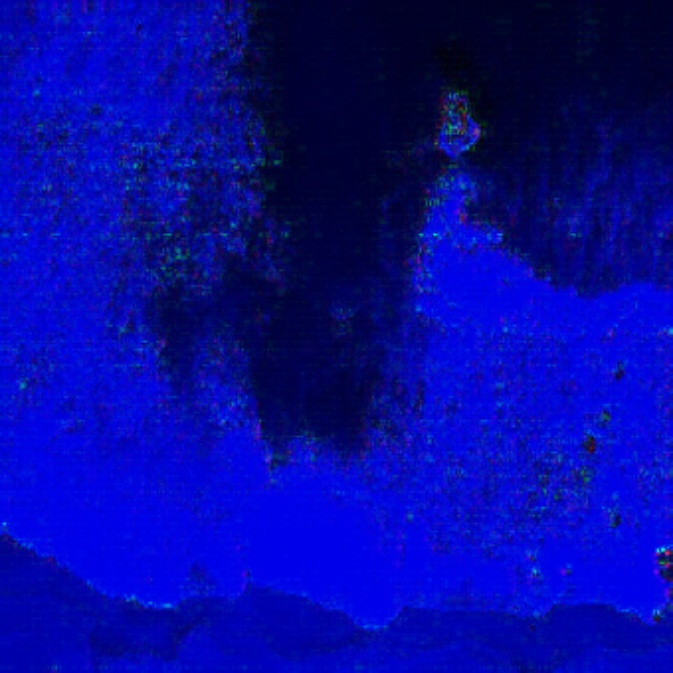rip_current: (198, 58, 462, 478)
